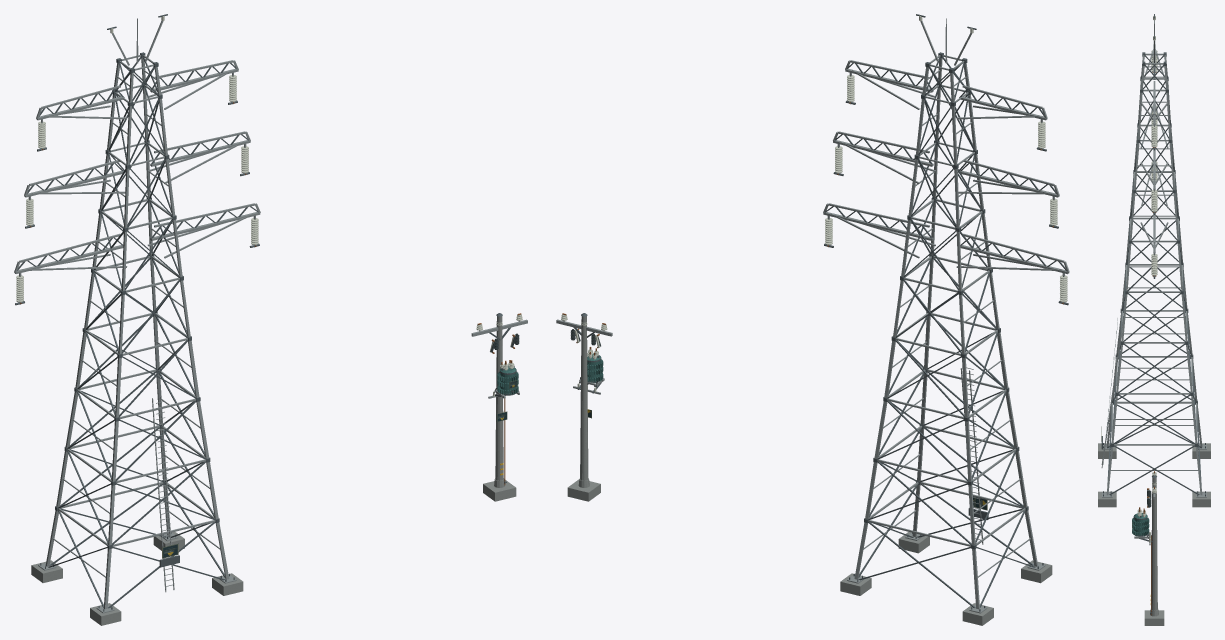
File: ProjectZ_PLT35_PowerPylonAndTransformer.glb
3 views of the same model, side by side, from view 1: azimuth 30°, elevation 25°; view 2: azimuth 150°, elevation 25°; view 3: azimuth 270°, elevation 25° (orthographic). The views are drawn at different scales.
Visible parts, largest first — view 1: Pole_Tapered10p8m_ReinforcedConcrete, HorizontalTieRing_Tier01, HorizontalTieRing_Tier02; view 2: Pole_Tapered10p8m_ReinforcedConcrete, HorizontalTieRing_Tier01, HorizontalTieRing_Tier02; view 3: Pole_Tapered10p8m_ReinforcedConcrete, HorizontalTieRing_Tier01, HorizontalTieRing_Tier02, HorizontalTieRing_Tier03, Pole_FoundationFooting, HorizontalTieRing_Tier05, PylonFooting_ES_ReinforcedConcrete, PylonFooting_EN_ReinforcedConcrete, HorizontalTieRing_Tier04, TransformerTank_24RadialCoolingFins, IntermediateStiffeners_Tier03, PylonFooting_WN_ReinforcedConcrete (+5 smaller).
Boxes of the visible parts, left/top/right/bottom form: Pole_Tapered10p8m_ReinforcedConcrete: left=495, top=316, right=503, bottom=480; HorizontalTieRing_Tier01: left=58, top=482, right=215, bottom=546; HorizontalTieRing_Tier02: left=67, top=425, right=206, bottom=483; Pole_Tapered10p8m_ReinforcedConcrete: left=580, top=316, right=588, bottom=480; HorizontalTieRing_Tier01: left=868, top=482, right=1025, bottom=546; HorizontalTieRing_Tier02: left=877, top=425, right=1016, bottom=483; Pole_Tapered10p8m_ReinforcedConcrete: left=1151, top=477, right=1157, bottom=610; HorizontalTieRing_Tier01: left=1111, top=401, right=1197, bottom=445; HorizontalTieRing_Tier02: left=1116, top=356, right=1192, bottom=394; HorizontalTieRing_Tier03: left=1121, top=310, right=1187, bottom=343; Pole_FoundationFooting: left=1144, top=610, right=1164, bottom=625; HorizontalTieRing_Tier05: left=1130, top=217, right=1178, bottom=242; PylonFooting_ES_ReinforcedConcrete: left=1098, top=491, right=1116, bottom=507; PylonFooting_EN_ReinforcedConcrete: left=1192, top=491, right=1210, bottom=507; HorizontalTieRing_Tier04: left=1126, top=264, right=1182, bottom=292; TransformerTank_24RadialCoolingFins: left=1132, top=517, right=1149, bottom=536; IntermediateStiffeners_Tier03: left=1120, top=333, right=1188, bottom=368; PylonFooting_WN_ReinforcedConcrete: left=1192, top=443, right=1210, bottom=458.
Size of the model in its own units: 33.98 by 35.75 by 8.02.
10 materials, 10 textured.
